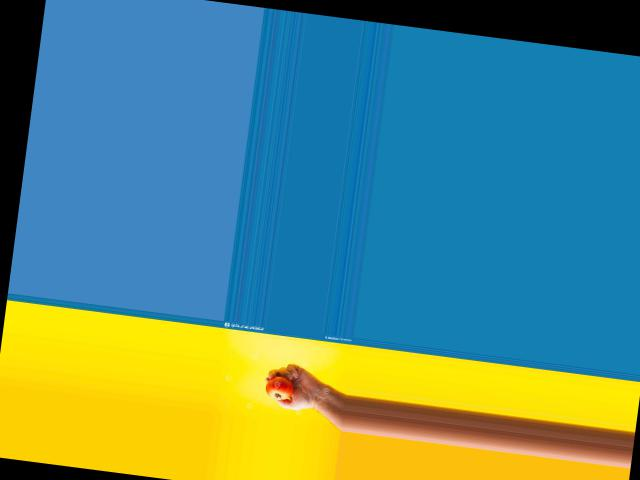tomato: (265, 374, 295, 400)
